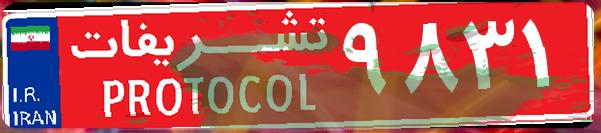1: (520, 20, 580, 115)
3: (460, 20, 520, 115)
8: (400, 20, 460, 115)
9: (340, 20, 400, 115)
تشریفات: (60, 8, 340, 125)
